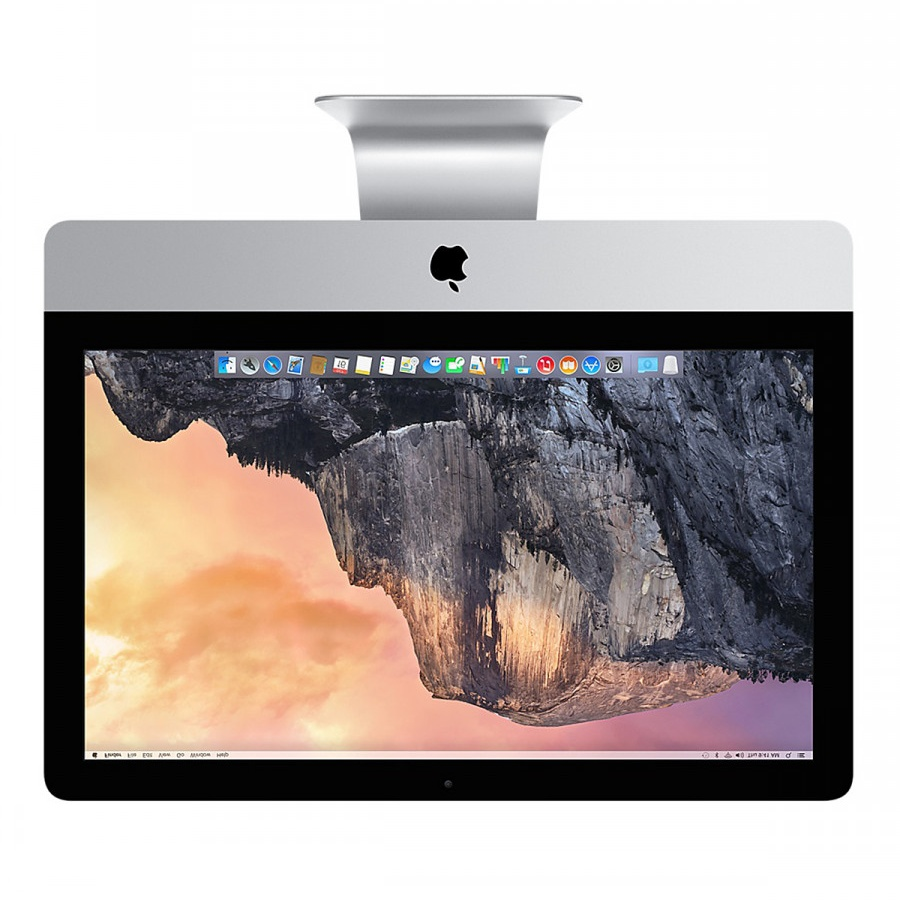Apple: (347, 206, 569, 318)
